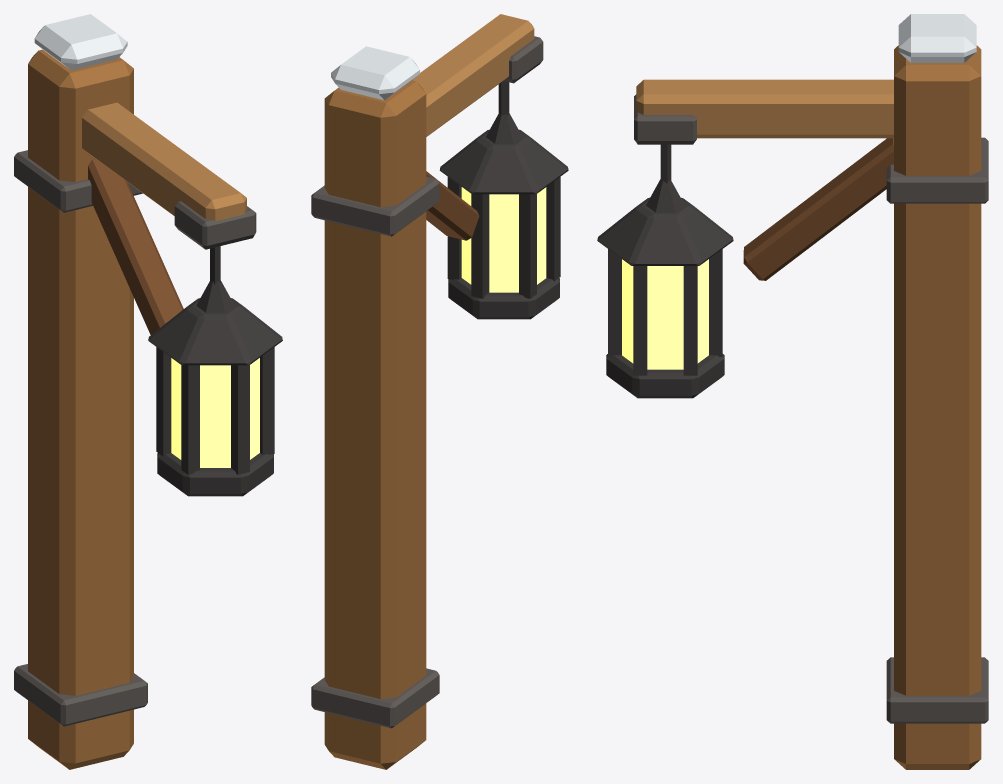
The model's file is dock_lantern_bracket.glb.
3 views of the same model, side by side, from view 1: azimuth 30°, elevation 25°; view 2: azimuth 150°, elevation 25°; view 3: azimuth 270°, elevation 25° (orthographic). The views are drawn at different scales.
Parts seen in each view (by area): view 1: dock_lantern_bracket; view 2: dock_lantern_bracket; view 3: dock_lantern_bracket.
Boxes of the visible parts, box(x1,y1,x2,y2) form: dock_lantern_bracket: box(14, 14, 282, 769); dock_lantern_bracket: box(311, 14, 568, 769); dock_lantern_bracket: box(597, 14, 988, 769).
Bounding box in the file's own units: 0.2477 × 1.66 × 0.8053.
